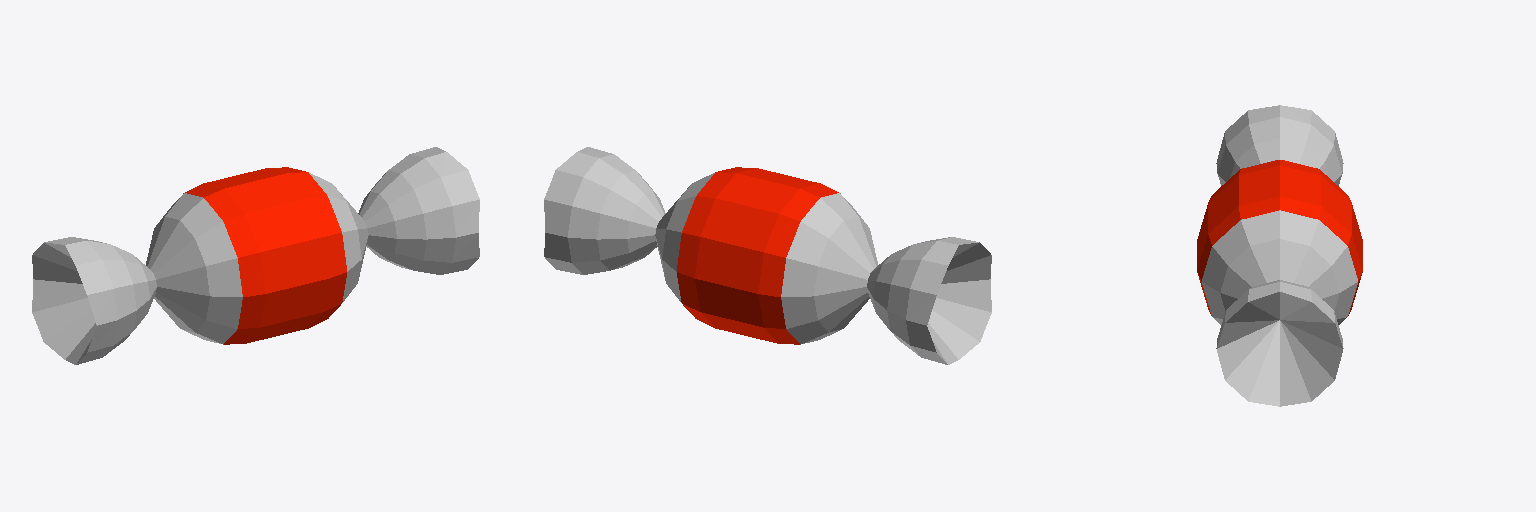
Rendered from candyA.obj.
3 views of the same model, side by side, from view 1: azimuth 30°, elevation 25°; view 2: azimuth 150°, elevation 25°; view 3: azimuth 270°, elevation 25° (orthographic).
Visible parts, largest first — view 1: candyA_Cylinder.012; view 2: candyA_Cylinder.012; view 3: candyA_Cylinder.012.
Boxes of the visible parts, box(x1,y1,x2,y2) form: candyA_Cylinder.012: box(32, 147, 479, 364); candyA_Cylinder.012: box(544, 147, 991, 364); candyA_Cylinder.012: box(1197, 105, 1362, 406).
Size of the model in its own units: 0.9694 by 0.3546 by 0.3546.